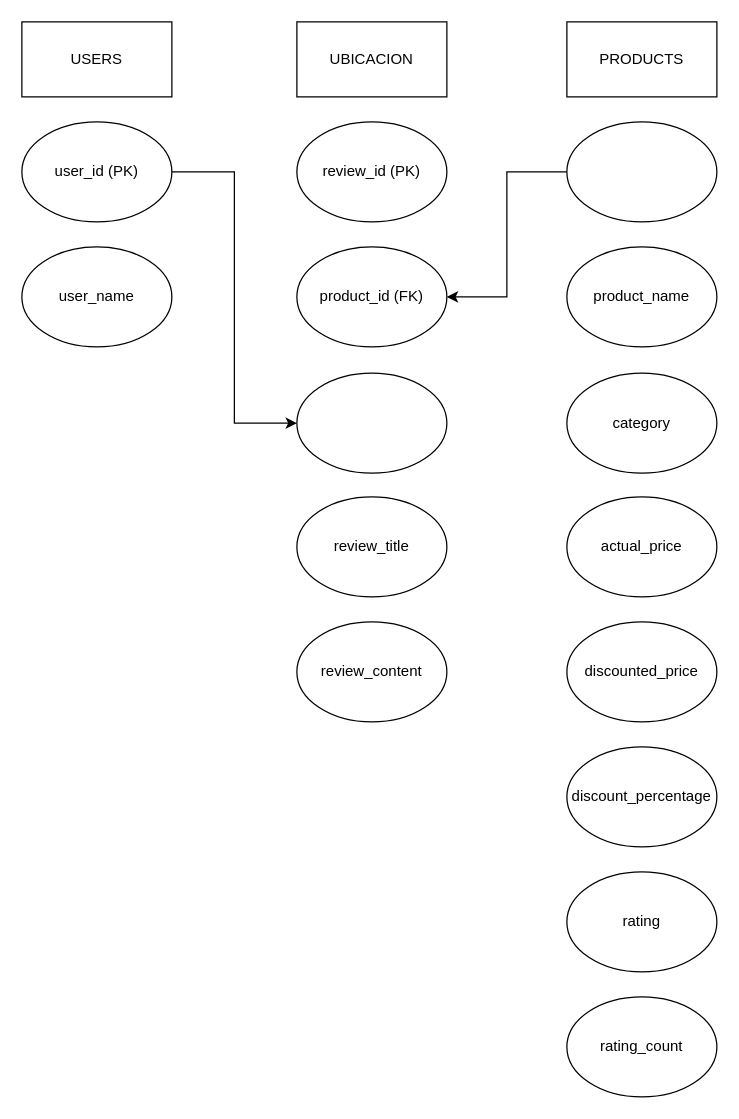
This 739x1119 diagram has some shape labels left out. Each missing label, with the centre of its shape:
"product_id (PK)" belongs at (x=641, y=171).
"user_id (FK)" belongs at (x=371, y=422).
